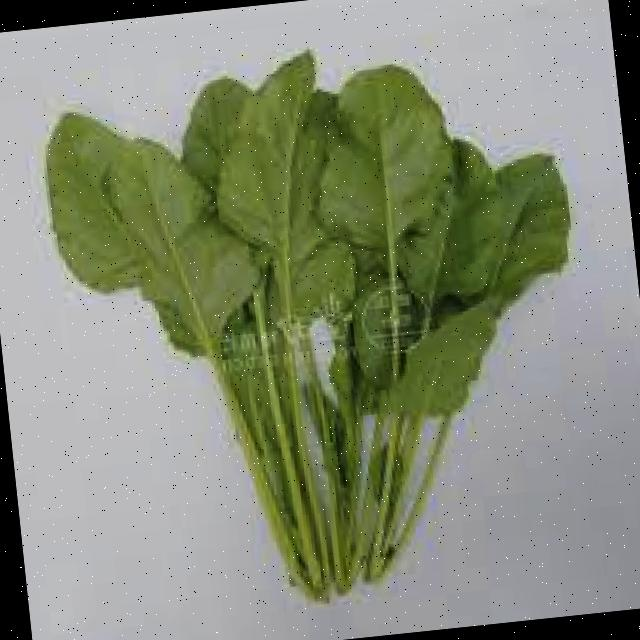spinach: (2, 4, 640, 635)
